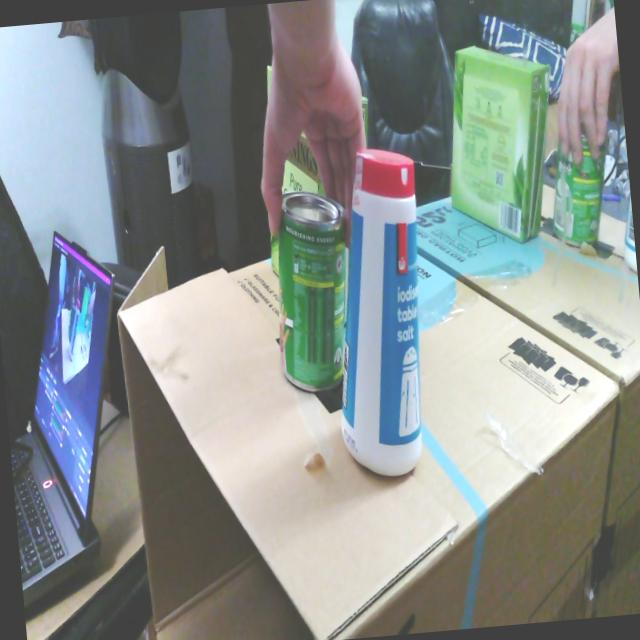nestle_milo_tin: (279, 191, 345, 391)
twinings_greentea_box: (281, 132, 324, 194), (270, 235, 279, 275), (361, 96, 368, 145), (266, 65, 271, 96)
woolworths_salt_bottle: (342, 149, 422, 476)
